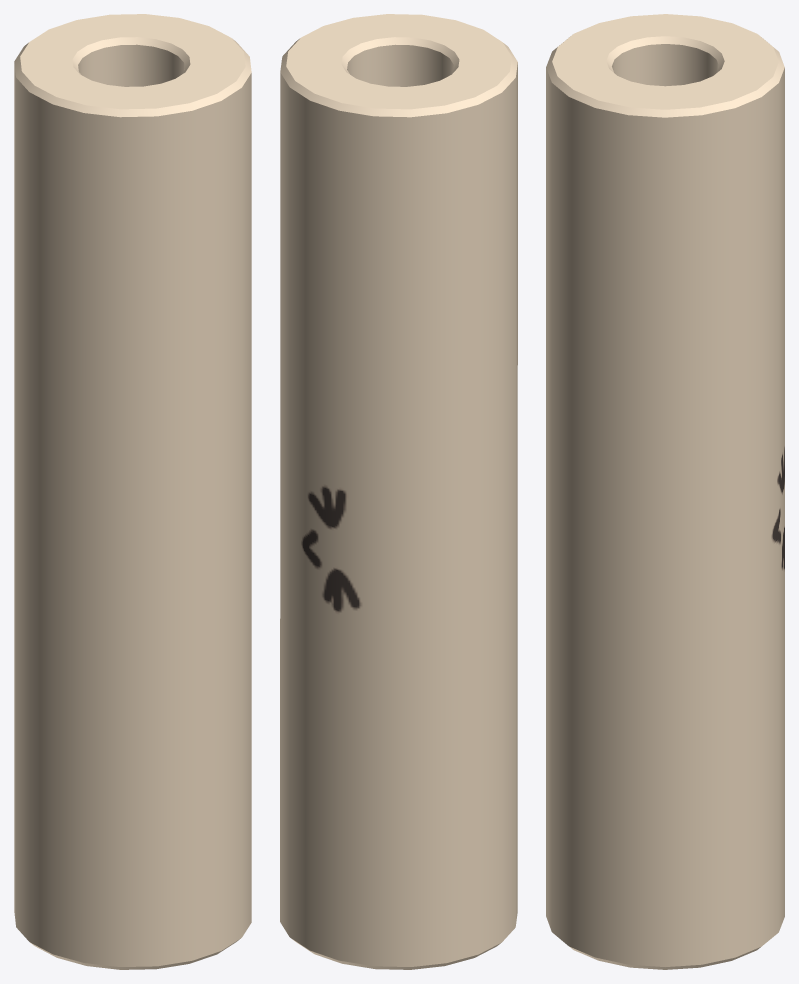
File: Oden_Chikuwa.gltf
3 views of the same model, side by side, from view 1: azimuth 30°, elevation 25°; view 2: azimuth 150°, elevation 25°; view 3: azimuth 270°, elevation 25° (orthographic).
Parts seen in each view (by area): view 1: Oden_Chikuwa; view 2: Oden_Chikuwa; view 3: Oden_Chikuwa.
Part boxes in pixels (x1,y1,x2,y2): Oden_Chikuwa: (14,14,251,969); Oden_Chikuwa: (280,14,517,969); Oden_Chikuwa: (546,14,784,969).
Size of the model in its own units: 0.7995 by 3.18 by 0.799.
Materials: 1 (1 with a texture image).
